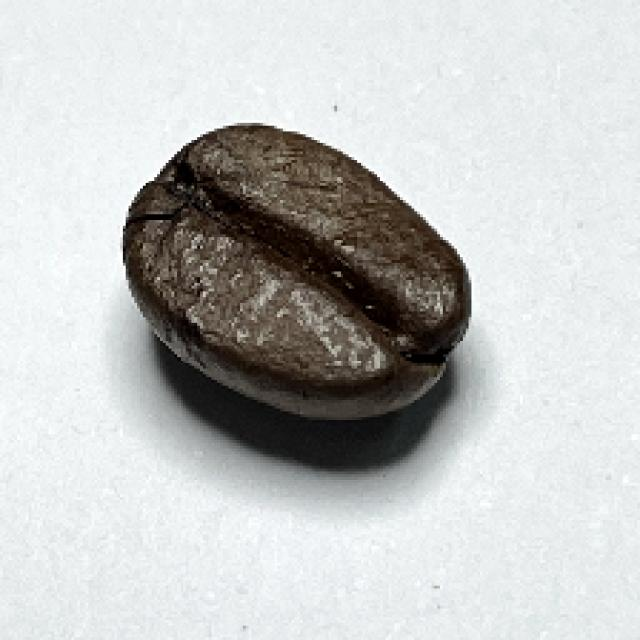bean: (114, 118, 474, 420)
